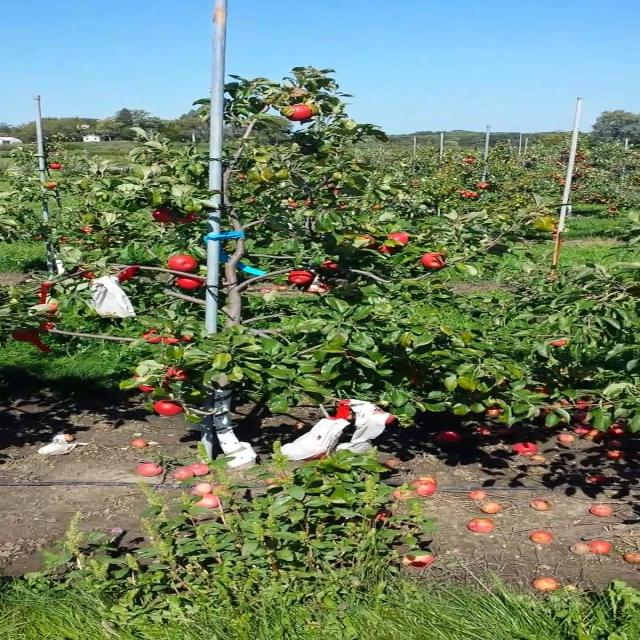apple: (133, 375, 171, 393), (167, 255, 198, 272), (282, 104, 313, 121), (540, 399, 569, 416), (420, 252, 447, 269), (538, 397, 570, 411), (153, 401, 182, 416), (176, 276, 204, 290), (11, 329, 40, 342), (289, 270, 313, 285), (118, 266, 139, 282), (356, 234, 378, 248), (151, 208, 173, 222), (142, 329, 162, 344), (160, 335, 193, 344), (387, 232, 409, 245), (167, 368, 189, 381), (484, 404, 504, 418), (176, 212, 198, 223), (75, 266, 94, 278), (524, 385, 549, 394), (571, 411, 587, 424), (304, 452, 327, 461), (378, 244, 396, 255), (381, 411, 395, 425), (549, 339, 569, 348), (320, 259, 336, 270), (34, 341, 50, 351), (40, 321, 56, 331), (576, 400, 591, 410), (80, 270, 96, 279), (47, 302, 59, 310)
